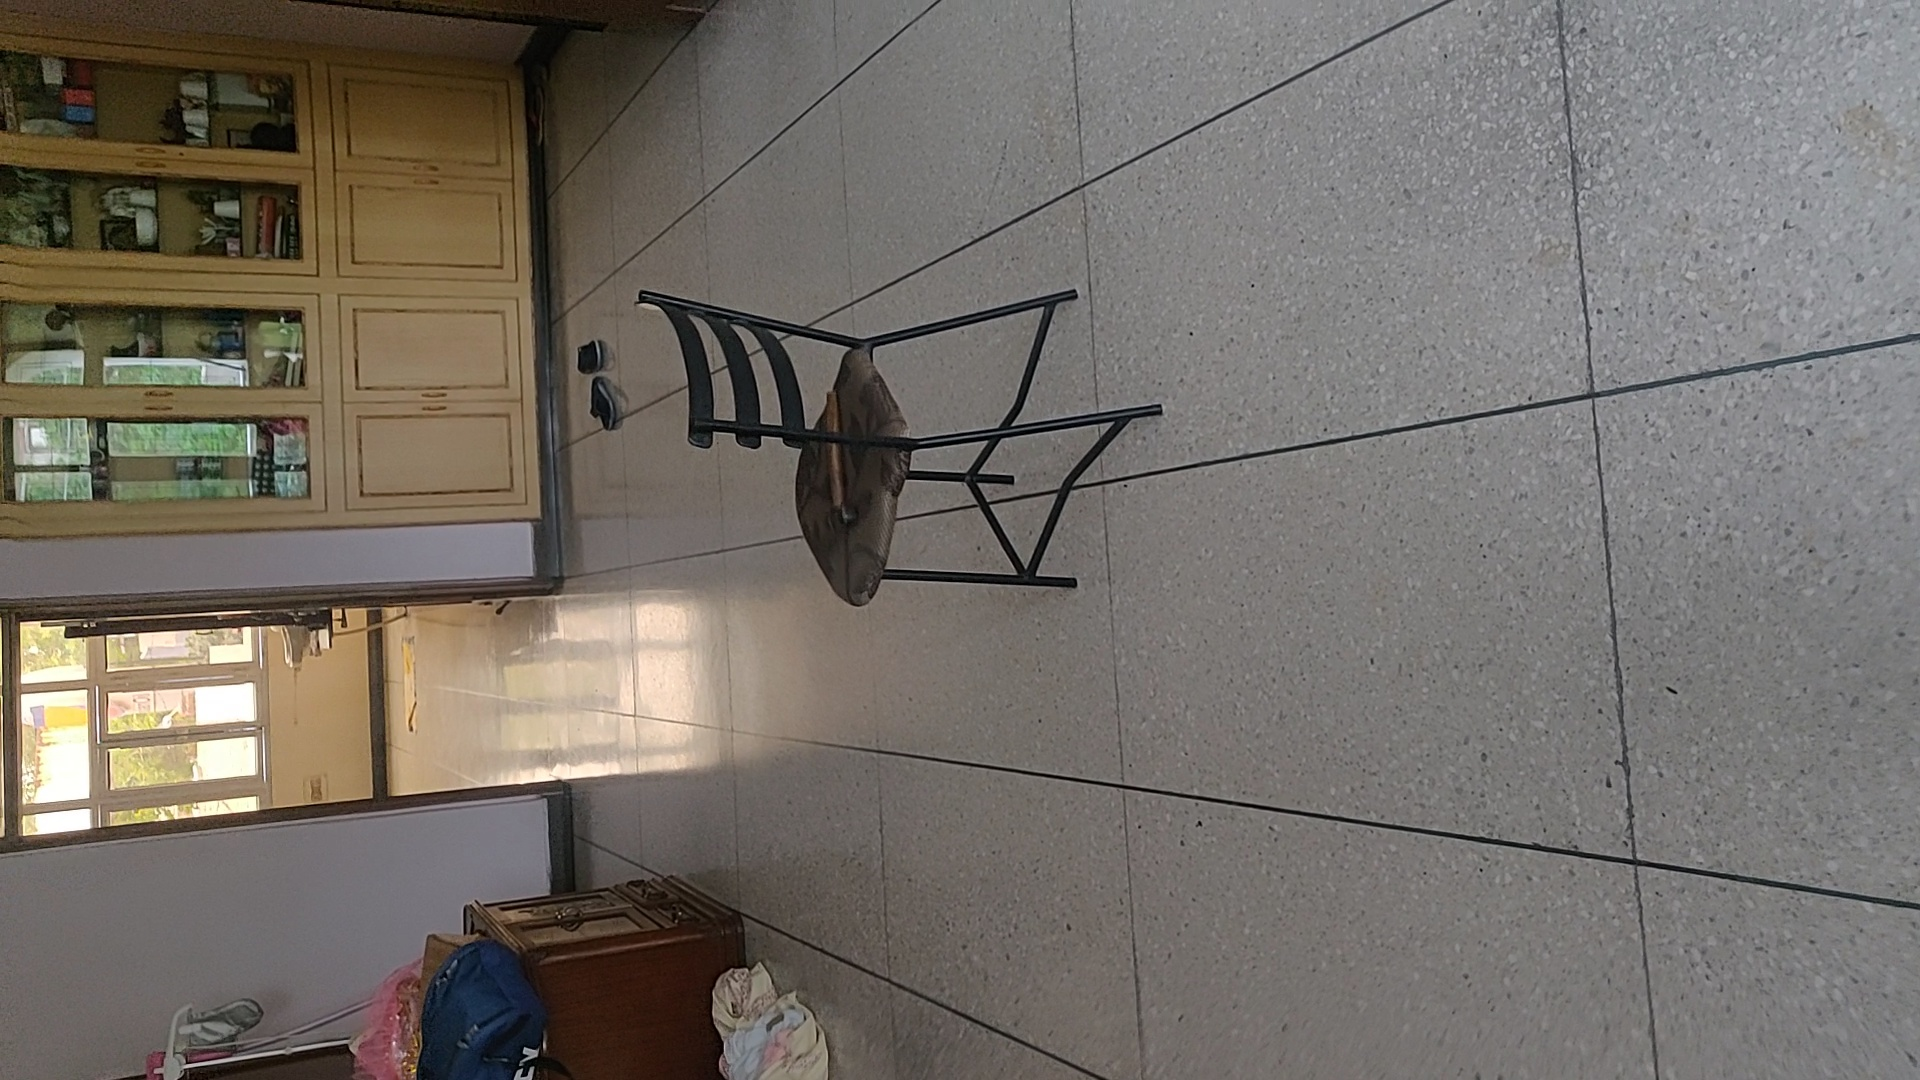hammer: (816, 392, 860, 535)
